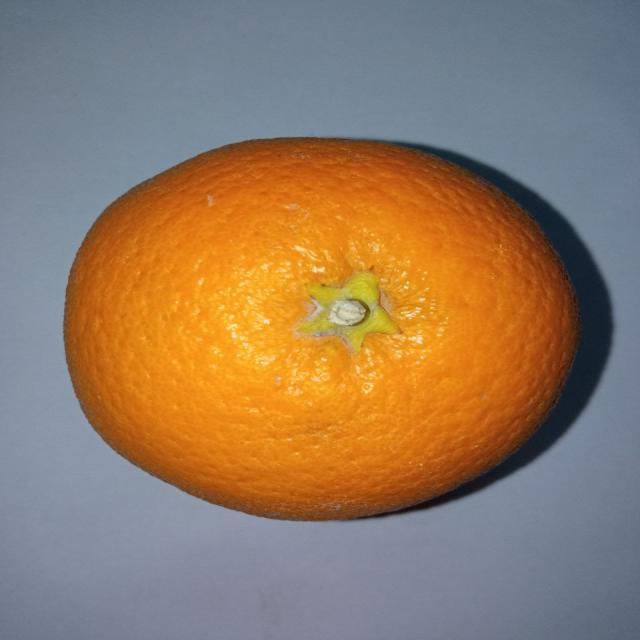fresh_orange: (65, 137, 579, 520)
